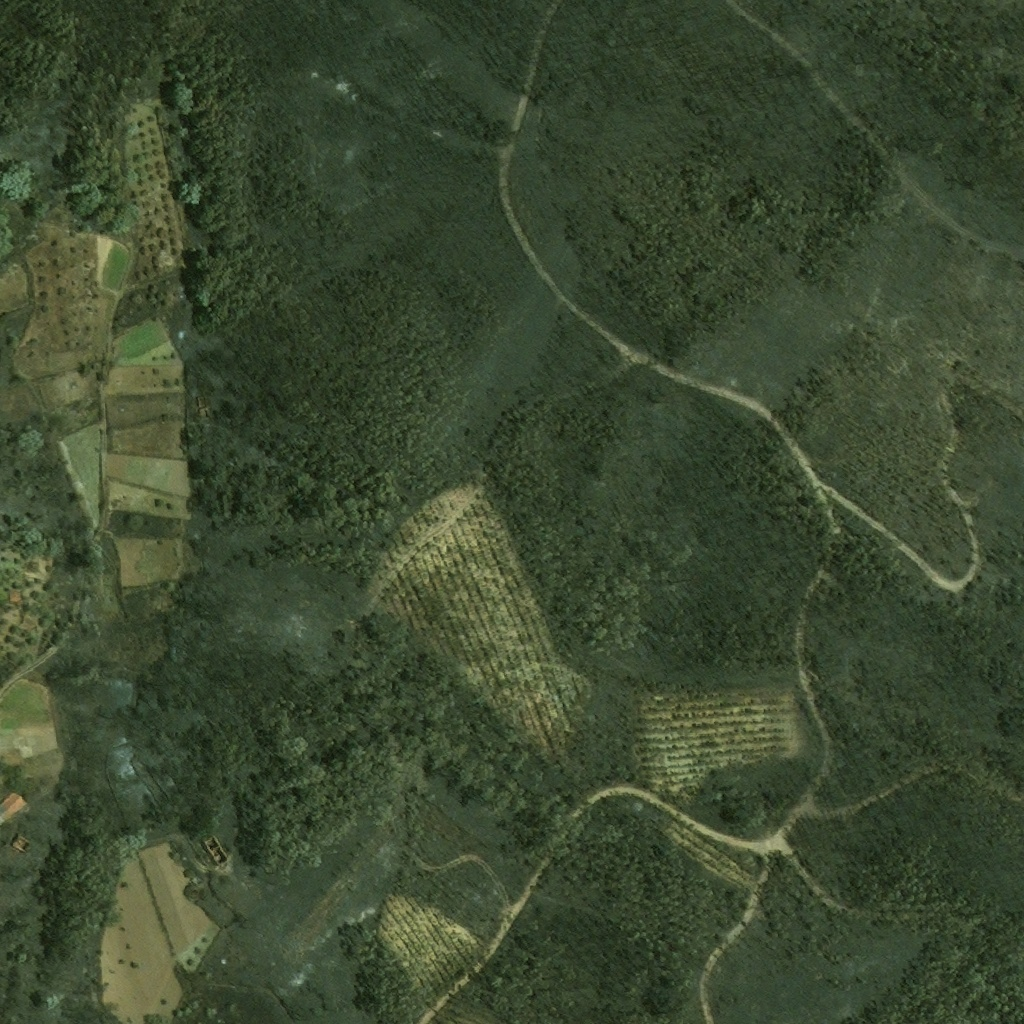0 no-damage: (0, 792, 24, 824)
3 destroyed: (202, 834, 230, 865), (19, 609, 41, 633)
